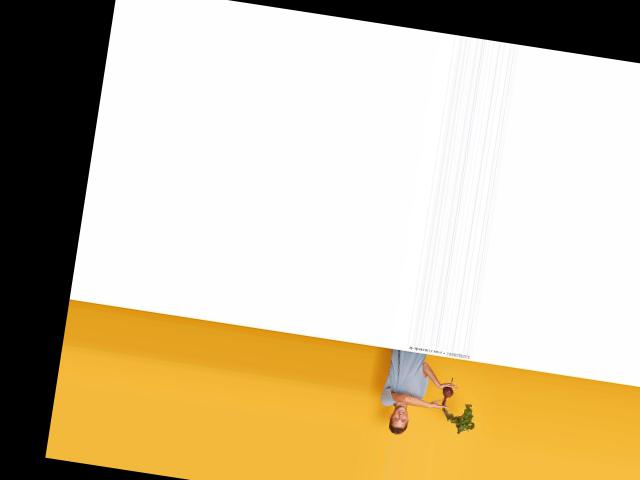beet: (437, 376, 482, 435)
